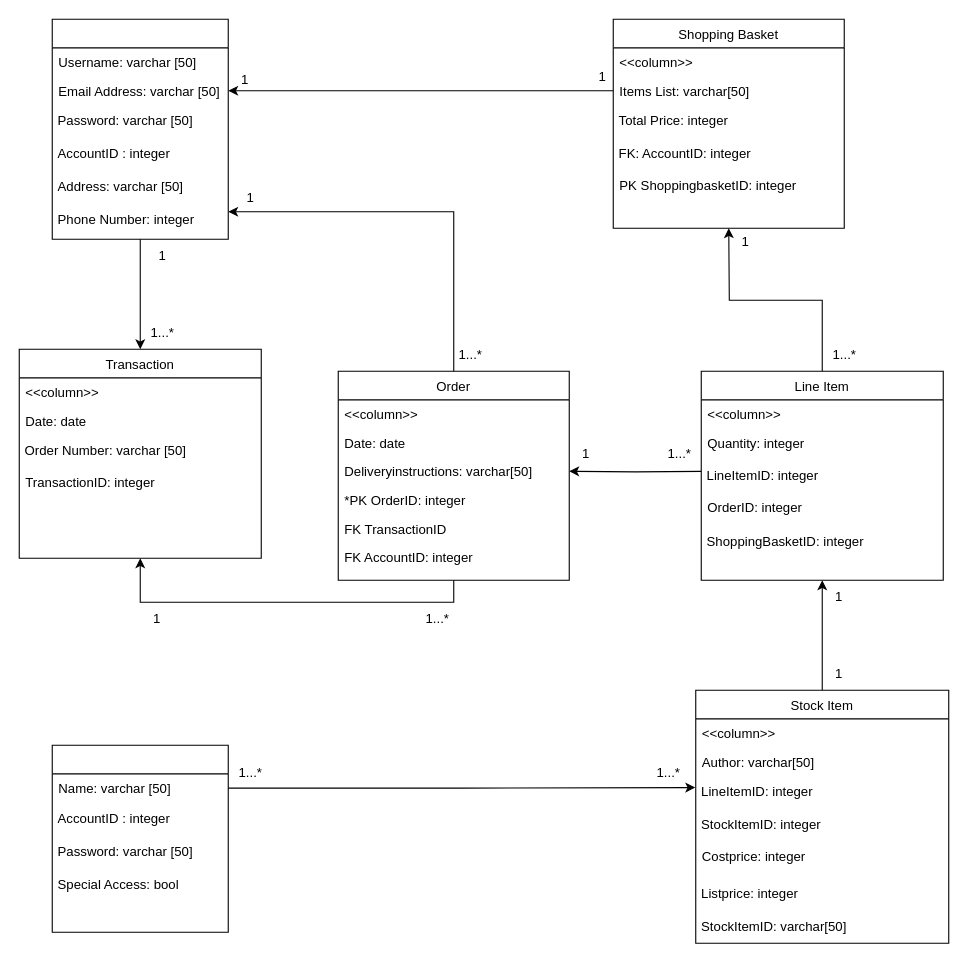
Image size: 968x963. Some labels were removed from this diagram. Each missing label, with the box of its shape:
Admin: (51, 744, 228, 932)
Buyer: (51, 18, 228, 239)
